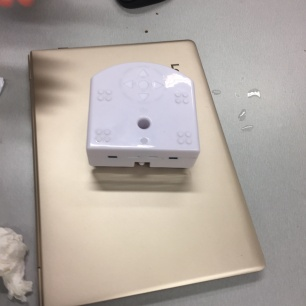thymio: (77, 60, 206, 176)
